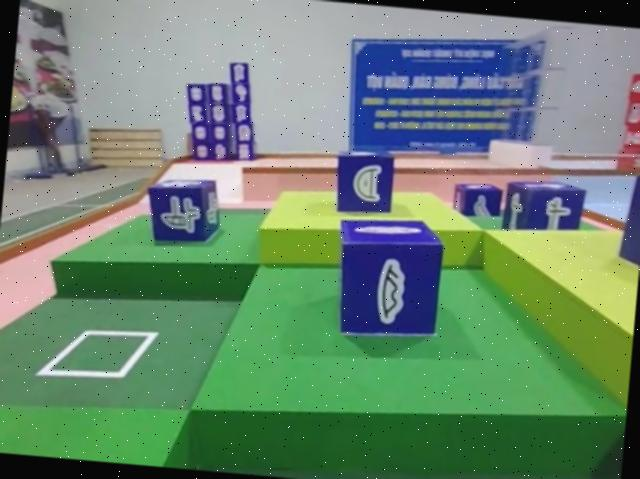R2 Real Blue: (327, 215, 445, 346), (143, 175, 224, 249), (498, 174, 585, 235), (330, 147, 397, 218), (616, 166, 640, 286), (448, 179, 502, 218)
